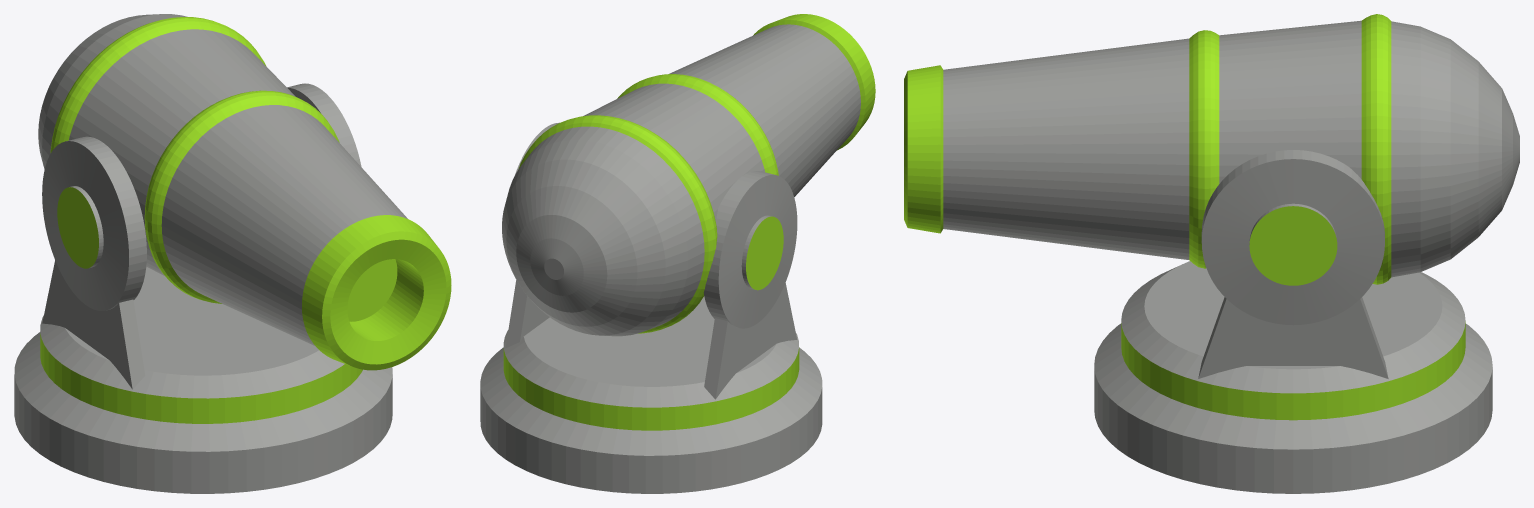
Rendered from cannon.fbx.
3 views of the same model, side by side, from view 1: azimuth 30°, elevation 25°; view 2: azimuth 150°, elevation 25°; view 3: azimuth 270°, elevation 25° (orthographic). The views are drawn at different scales.
Visible parts, largest first — view 1: Circle; view 2: Circle; view 3: Circle.
Part boxes in pixels (bbox=[...]): Circle: bbox=[14, 14, 451, 493]; Circle: bbox=[480, 14, 875, 493]; Circle: bbox=[904, 14, 1519, 493].
Bounding box in the file's own units: 231 × 246 × 358.
1 material, 1 textured.
